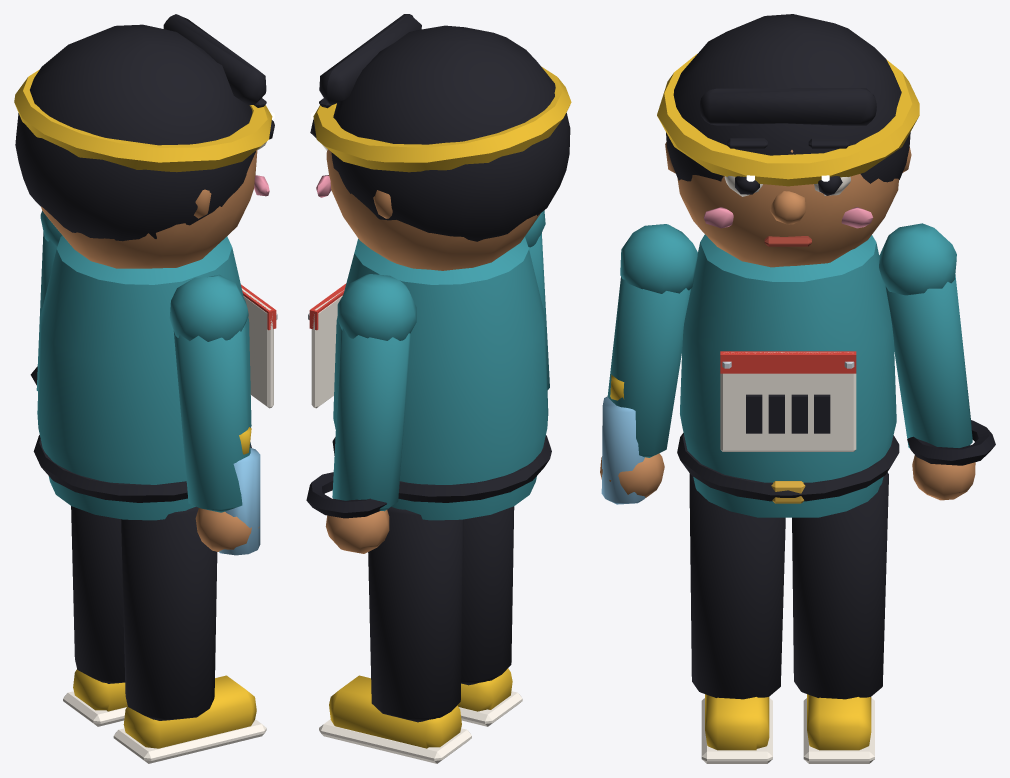
Rendered from marathon_runner.glb.
The picture shows the model from 3 angles, left to right: view 1: azimuth 30°, elevation 25°; view 2: azimuth 150°, elevation 25°; view 3: azimuth 270°, elevation 25°; orthographic projection.
Parts seen in each view (by area): view 1: marathon_runner; view 2: marathon_runner; view 3: marathon_runner.
Boxes of the visible parts, <box> form: marathon_runner: <box>14,14,277,763</box>; marathon_runner: <box>306,14,571,763</box>; marathon_runner: <box>600,14,995,763</box>.
Size of the model in its own units: 0.4689 by 1.37 by 0.7103.
Materials: 1 (1 with a texture image).
